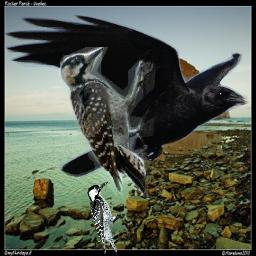Crow: (3, 12, 251, 177)
Woodpecker: (58, 47, 155, 199), (87, 181, 117, 256)
